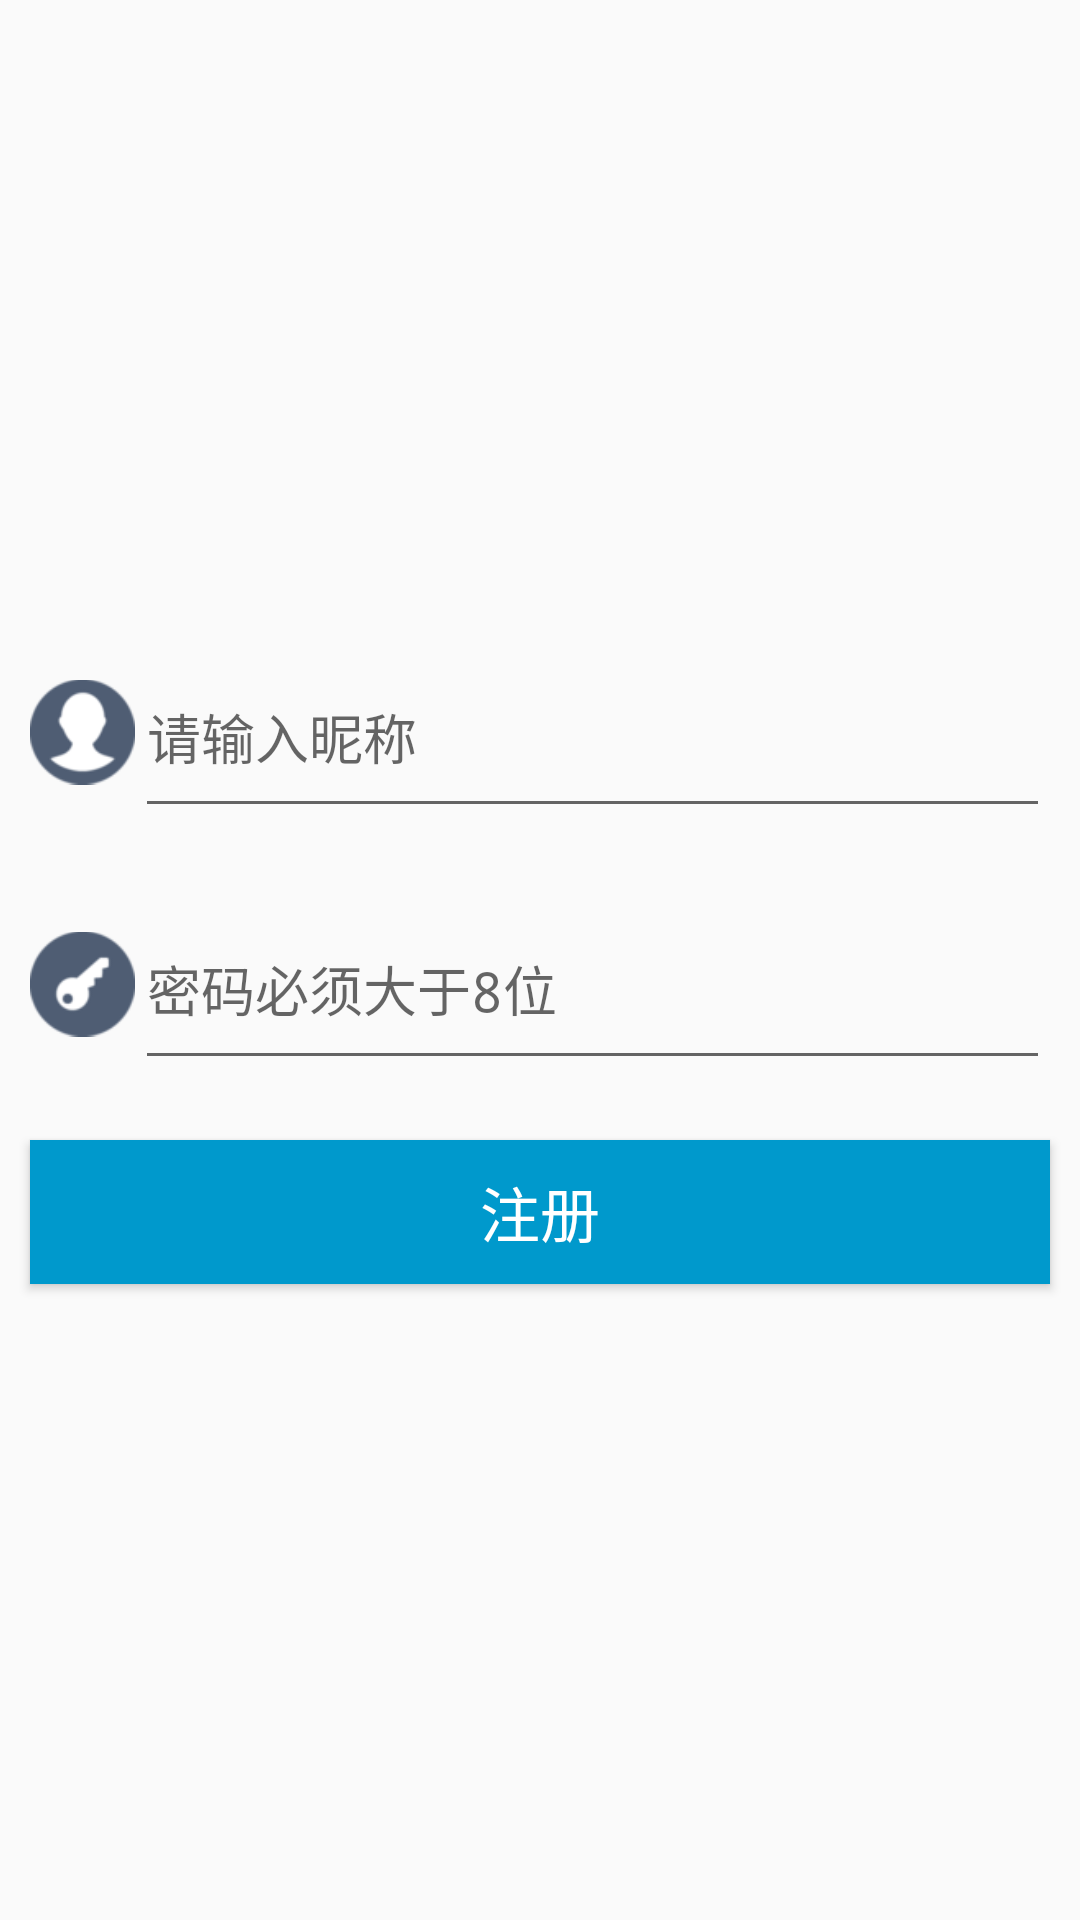

Icon click points for this 1080px×1920px phone screenshot, format (x,y):
user: (82,732)
